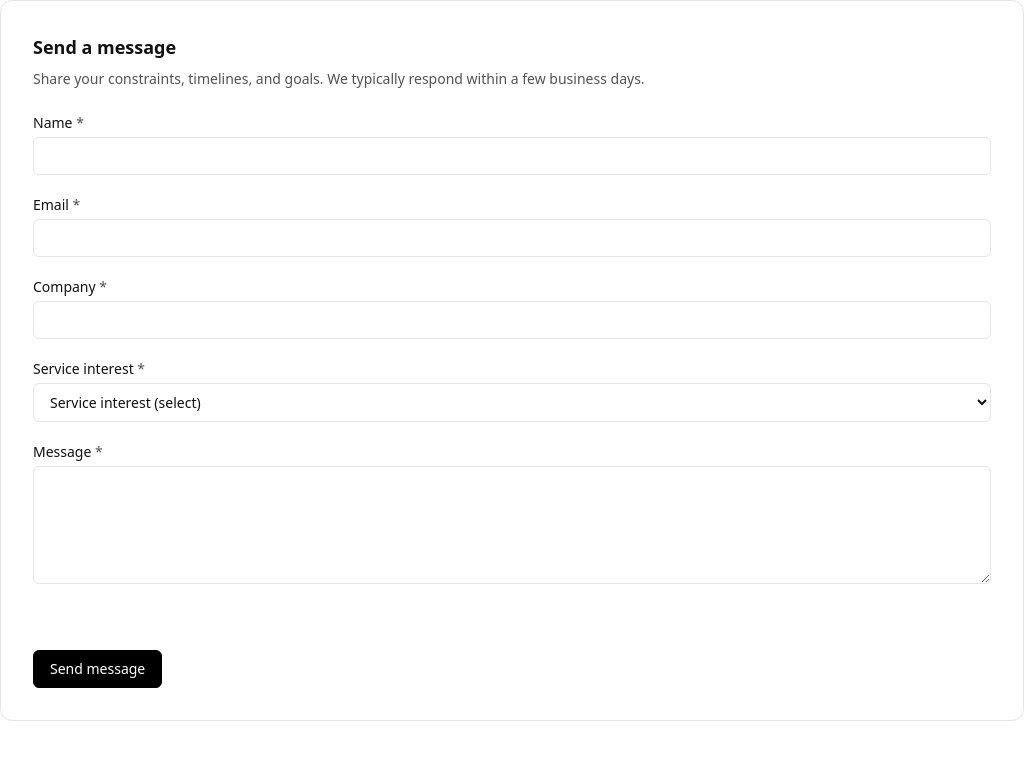
Test case: ContactForm › POSTs to configured endpoint and shows success on 200
Type "Jane Doe" into the field labelled "Name *" at point(512, 156), box [33,137,991,175]
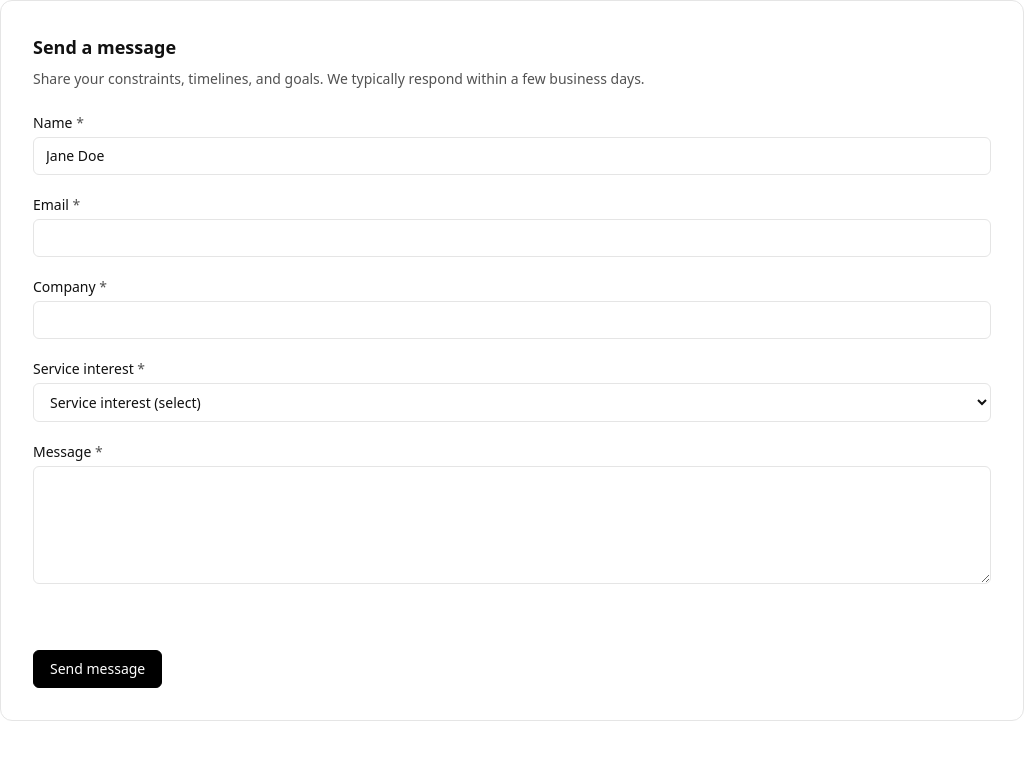
Type "jane@example.com" into the field labelled "Email *" at point(512, 238), box [33,219,991,257]
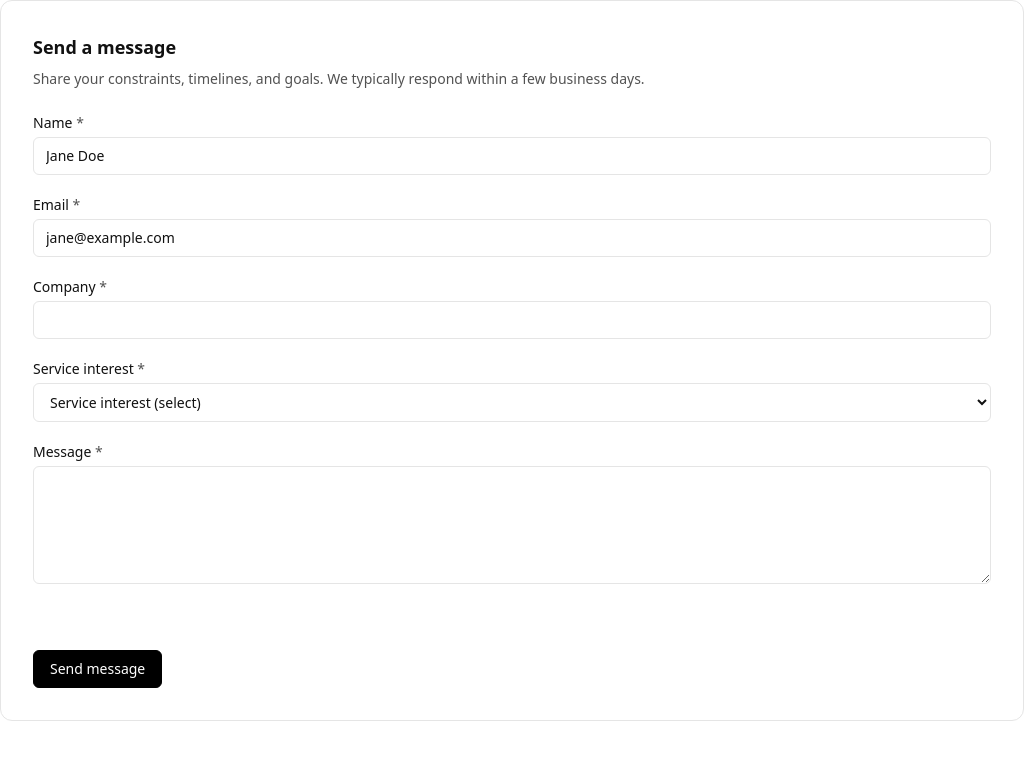
Type "Acme Health" into the field labelled "Company *" at point(512, 320), box [33,301,991,339]
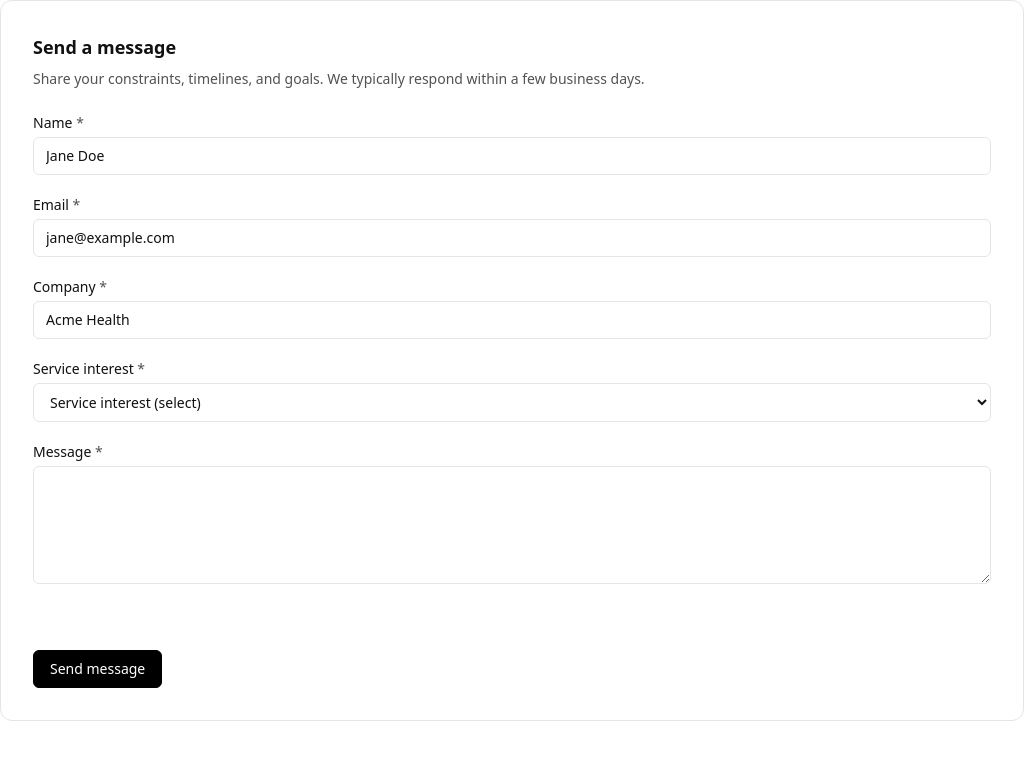
Select "Other / not sure yet" in the dropdown labelled "Service interest *" at point(512, 402), box [33,383,991,422]
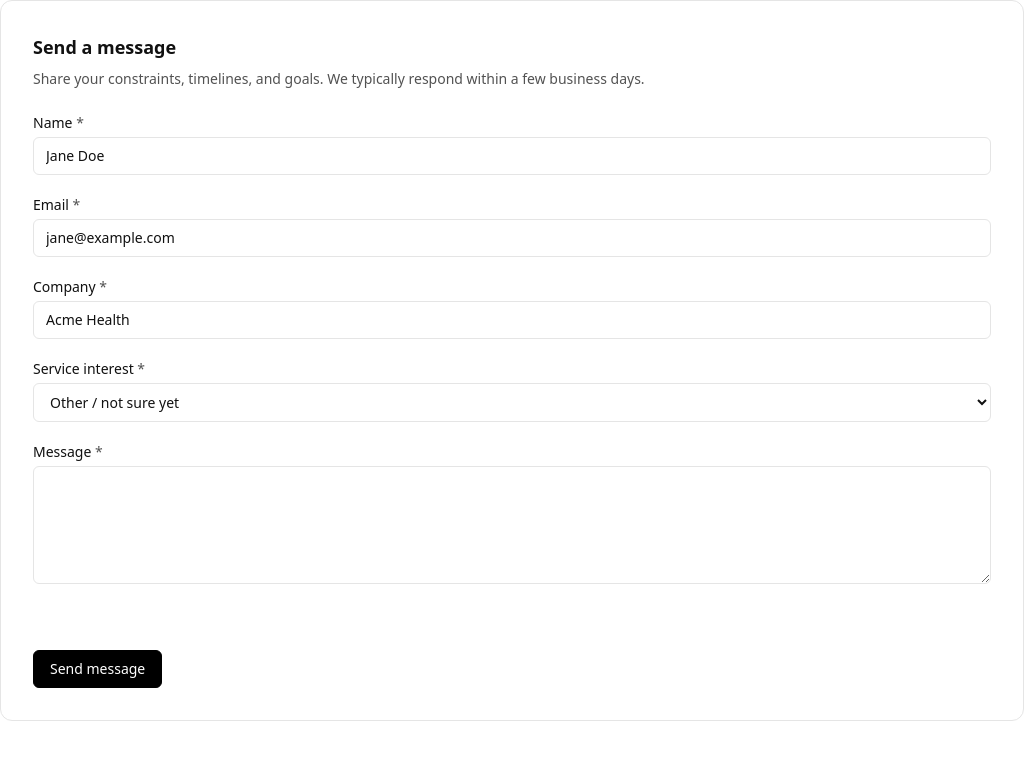
Type "Project context." into the text box labelled "Message *" at point(512, 525), box [33,466,991,584]
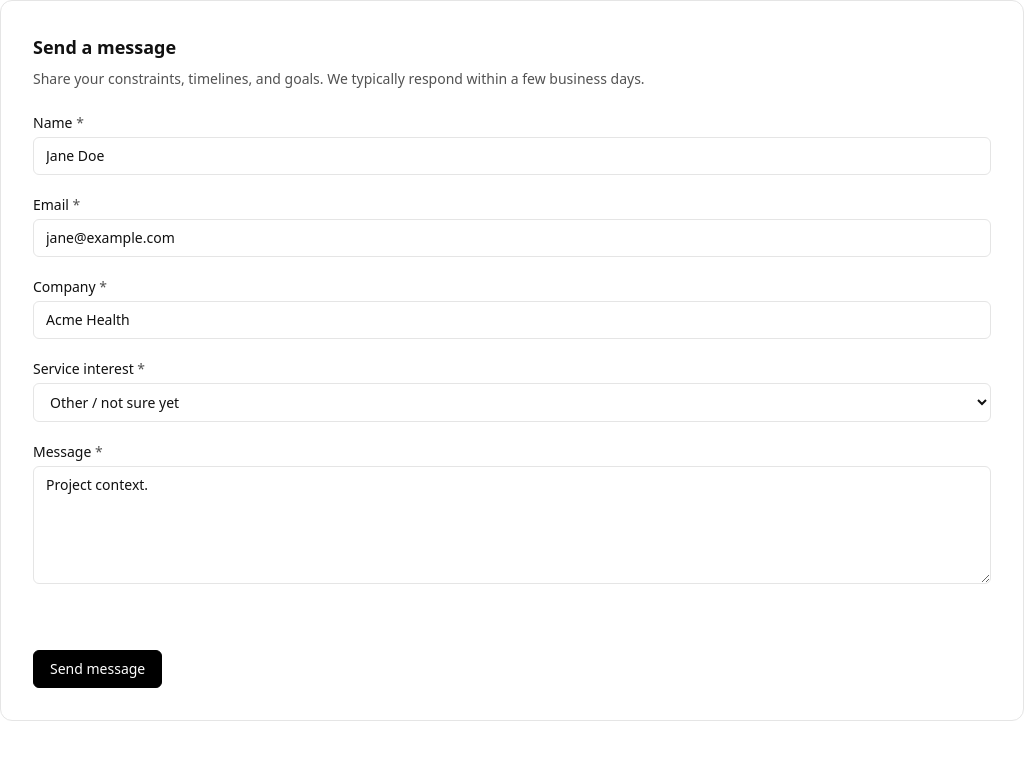
Click the button "Send message" at point(98, 669), box [33,650,162,688]
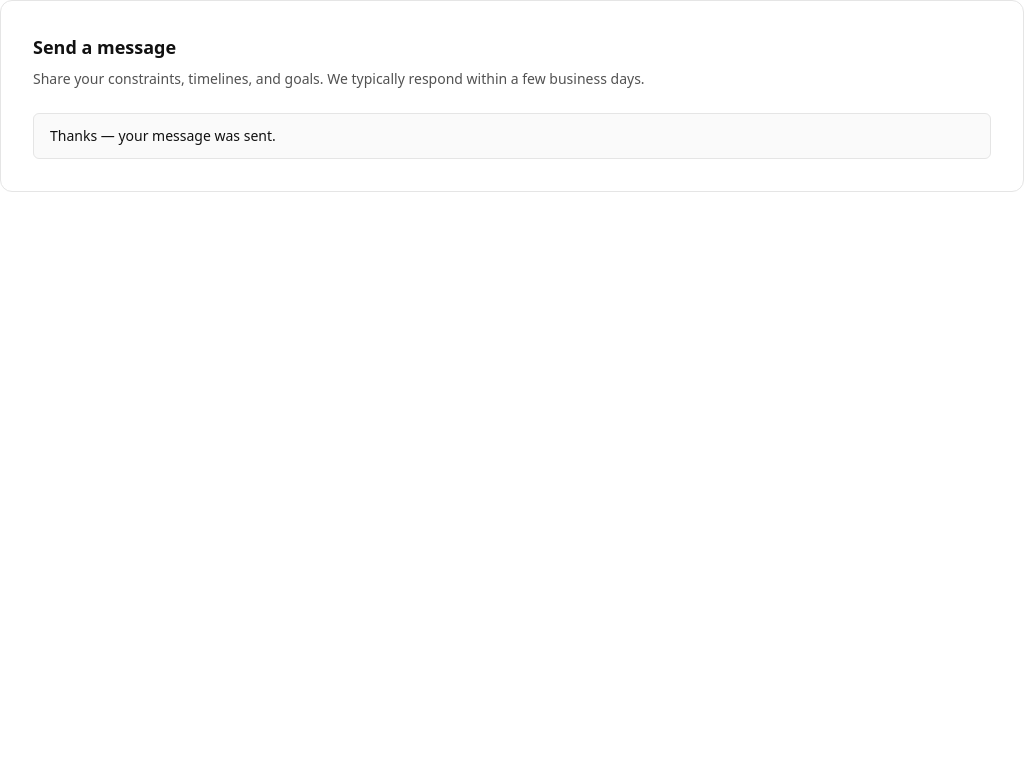
Check: the text "Thanks — your message was sent." is shown, box [33,113,991,159]
